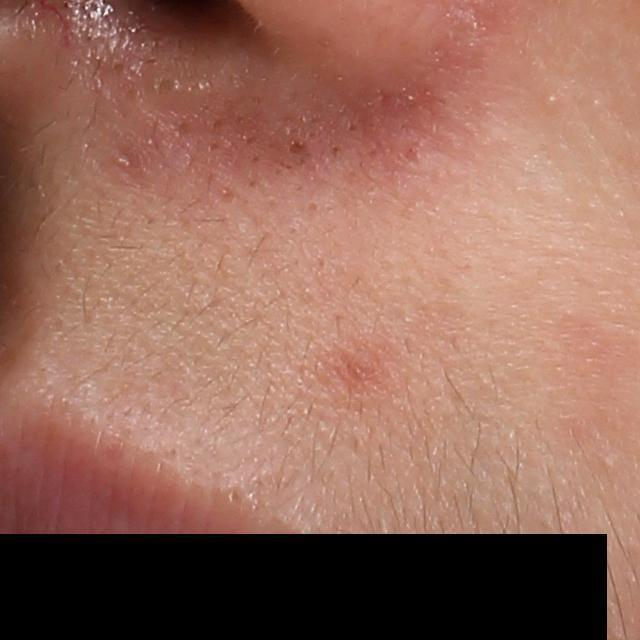comedo: (541, 93, 564, 111), (224, 486, 242, 508), (601, 455, 617, 472)
